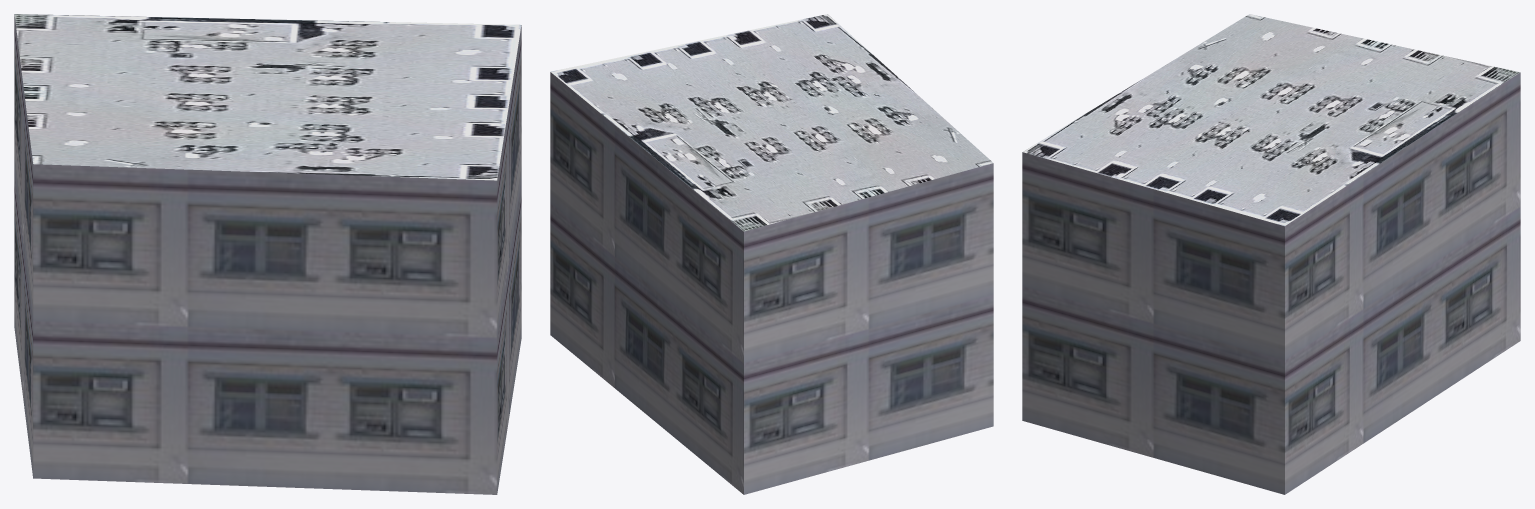
The model's file is ResTex__3131.fbx.
3 renders of one model, left to right at view 1: azimuth 30°, elevation 25°; view 2: azimuth 150°, elevation 25°; view 3: azimuth 270°, elevation 25°, orthographic. The views are drawn at different scales.
Visible parts, largest first — view 1: CityEngineMaterial_1_m, CityEngineMaterial_m; view 2: CityEngineMaterial_1_m, CityEngineMaterial_m; view 3: CityEngineMaterial_1_m, CityEngineMaterial_m.
Part boxes in pixels (left/top/right/bottom): CityEngineMaterial_1_m: left=14, top=14, right=521, bottom=494; CityEngineMaterial_m: left=14, top=14, right=521, bottom=180; CityEngineMaterial_1_m: left=550, top=72, right=993, bottom=494; CityEngineMaterial_m: left=550, top=14, right=993, bottom=231; CityEngineMaterial_1_m: left=1022, top=72, right=1520, bottom=494; CityEngineMaterial_m: left=1023, top=14, right=1519, bottom=226.
Bounding box in the file's own units: 10.17 × 6 × 10.08.
2 materials, 2 textured.
